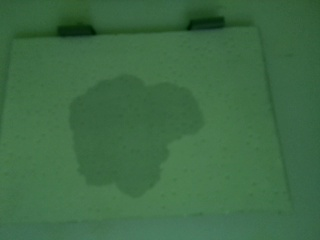Water_detected: (82, 85, 184, 182)
